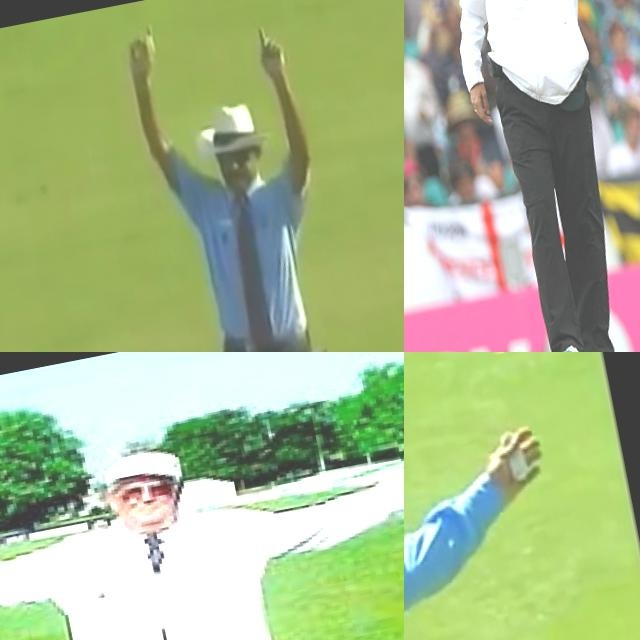No_Ball: (410, 0, 640, 352)
Six: (113, 0, 397, 352)
Wide: (0, 374, 404, 640), (404, 361, 596, 640)
